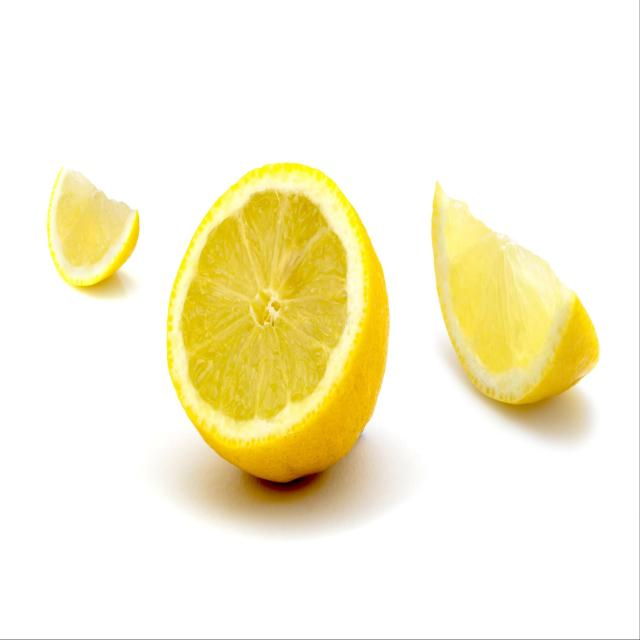lemon: (164, 157, 392, 489)
